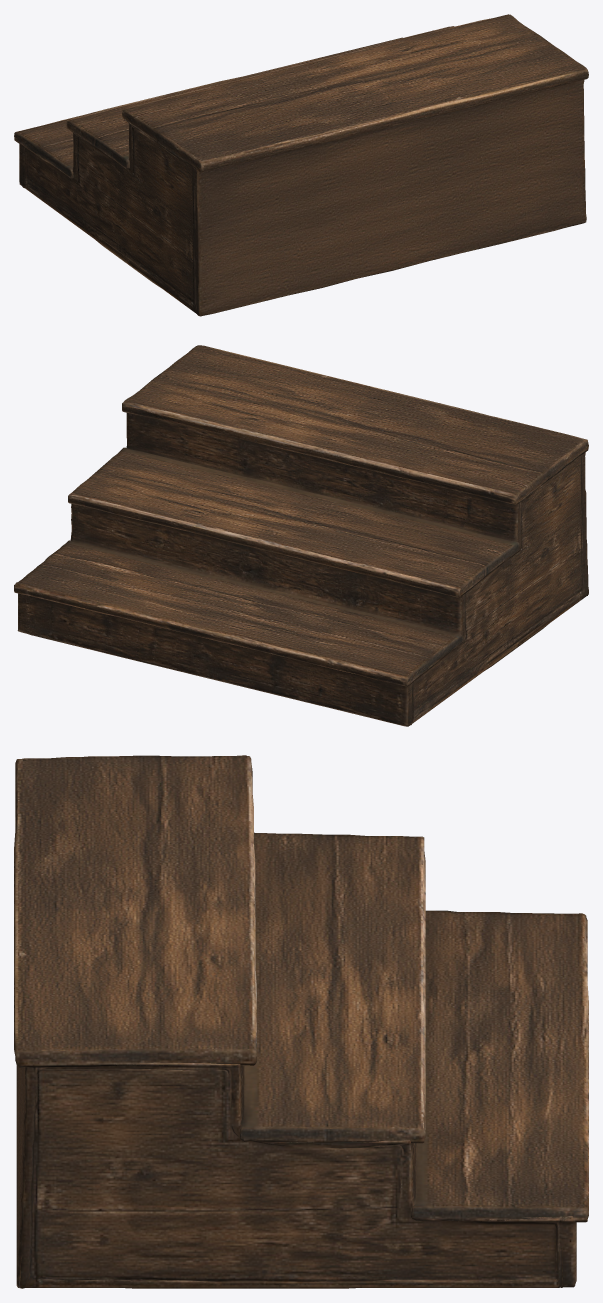
The model's file is theme-stage-stairs-v06.glb.
3 views of the same model, one above another, from view 1: azimuth 30°, elevation 25°; view 2: azimuth 150°, elevation 25°; view 3: azimuth 270°, elevation 25° (orthographic). The views are drawn at different scales.
Visible parts, largest first — view 1: tripo_node_ba9d5d23-a18b-407c-81ad-485fc1317be7; view 2: tripo_node_ba9d5d23-a18b-407c-81ad-485fc1317be7; view 3: tripo_node_ba9d5d23-a18b-407c-81ad-485fc1317be7.
Boxes of the visible parts, bbox=[...] form: tripo_node_ba9d5d23-a18b-407c-81ad-485fc1317be7: bbox=[14, 14, 588, 316]; tripo_node_ba9d5d23-a18b-407c-81ad-485fc1317be7: bbox=[14, 345, 588, 726]; tripo_node_ba9d5d23-a18b-407c-81ad-485fc1317be7: bbox=[14, 755, 588, 1288].
Bounding box in the file's own units: 1.18 × 0.45 × 0.9669.
1 material, 1 textured.
